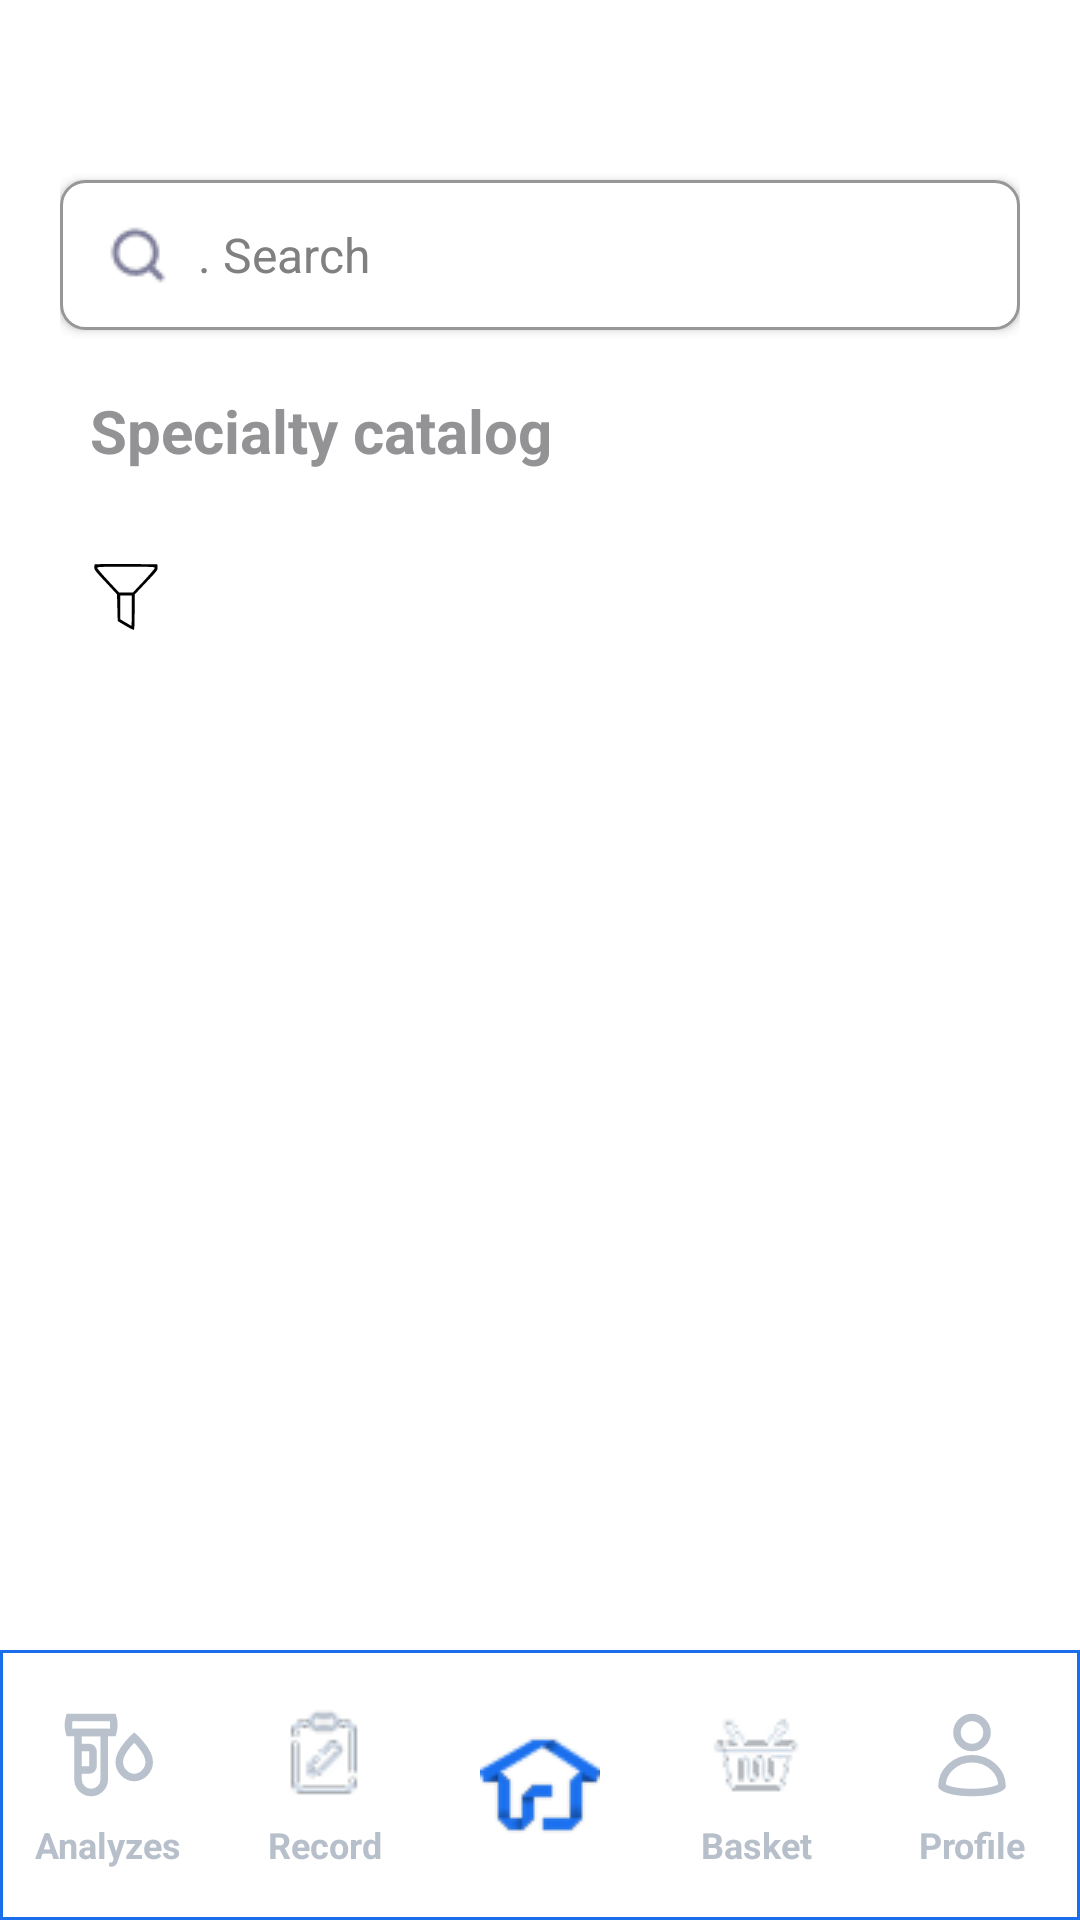

Screen size 1080 × 1920. Icon name, then its center in pixels as (x,y):
filtering: (126,597)
